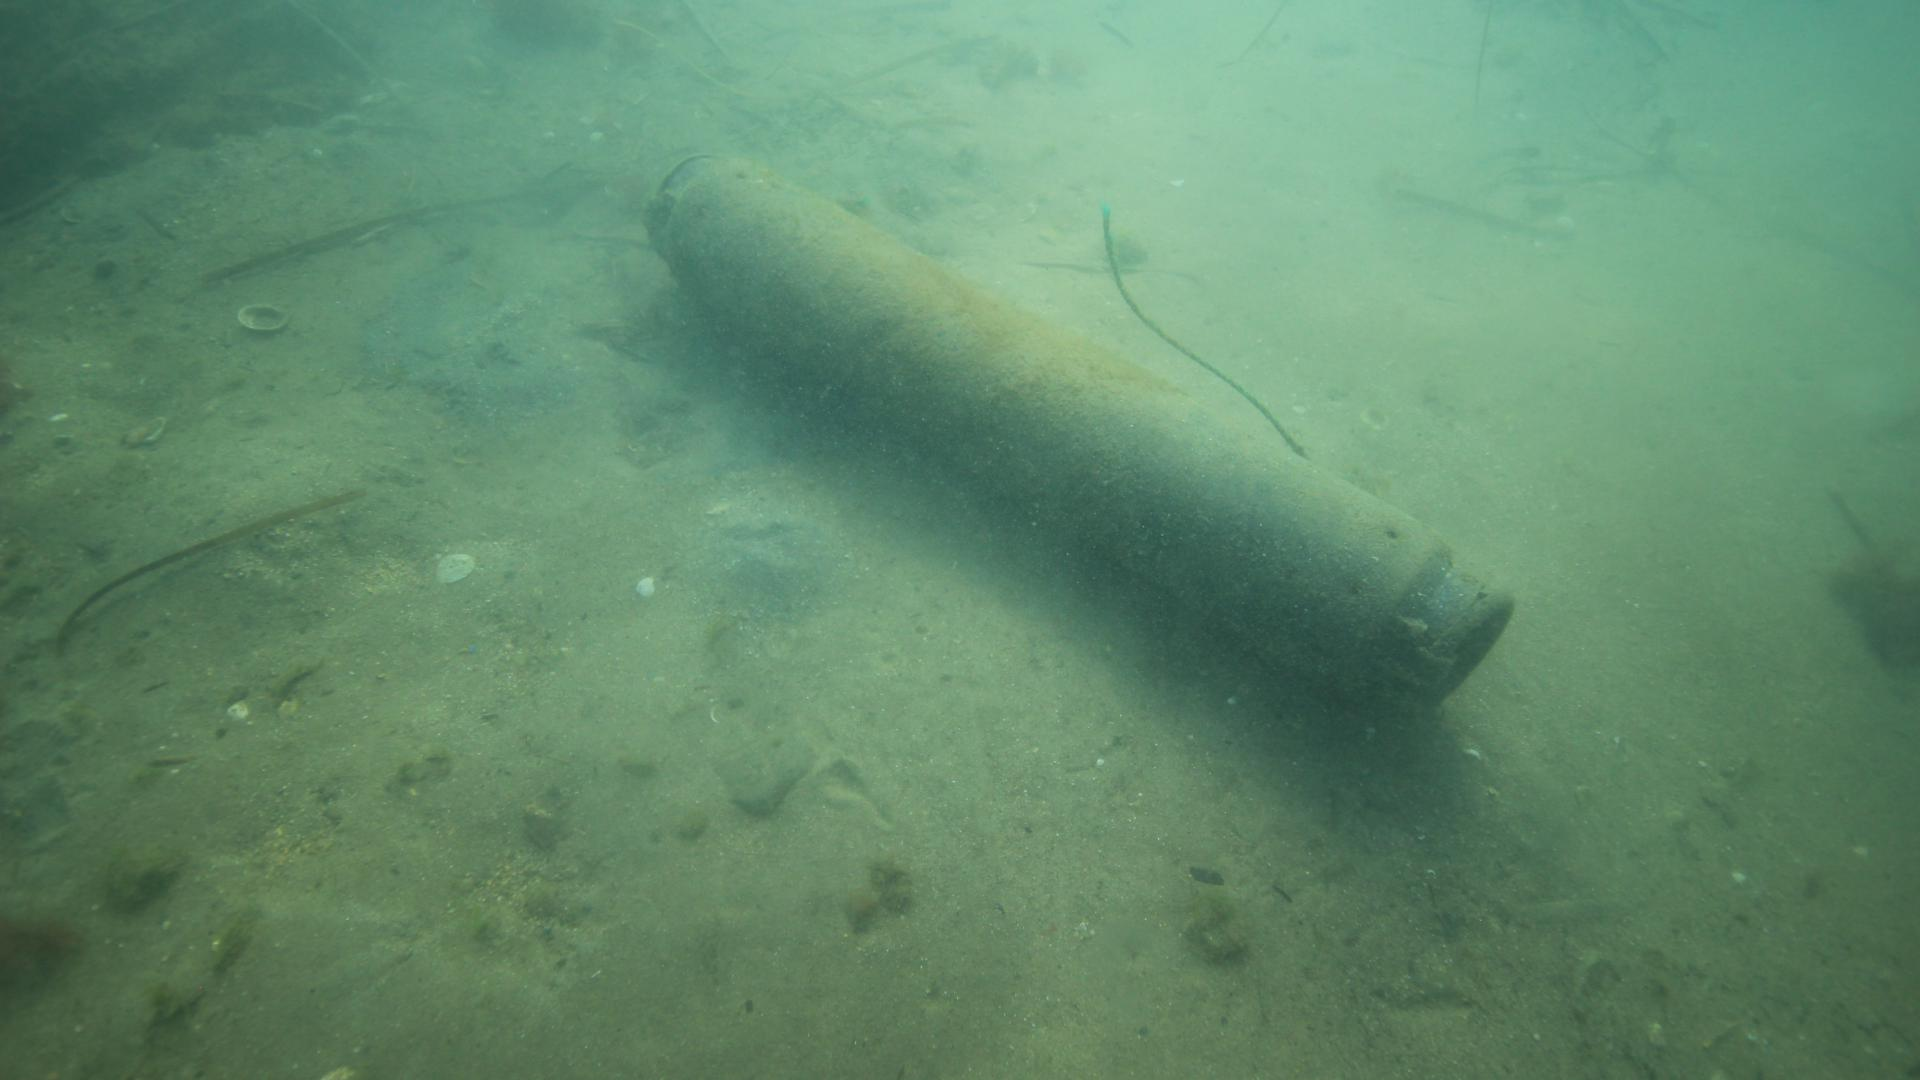eel fish trap: (642, 149, 1516, 709)
rope: (1095, 196, 1315, 463)
